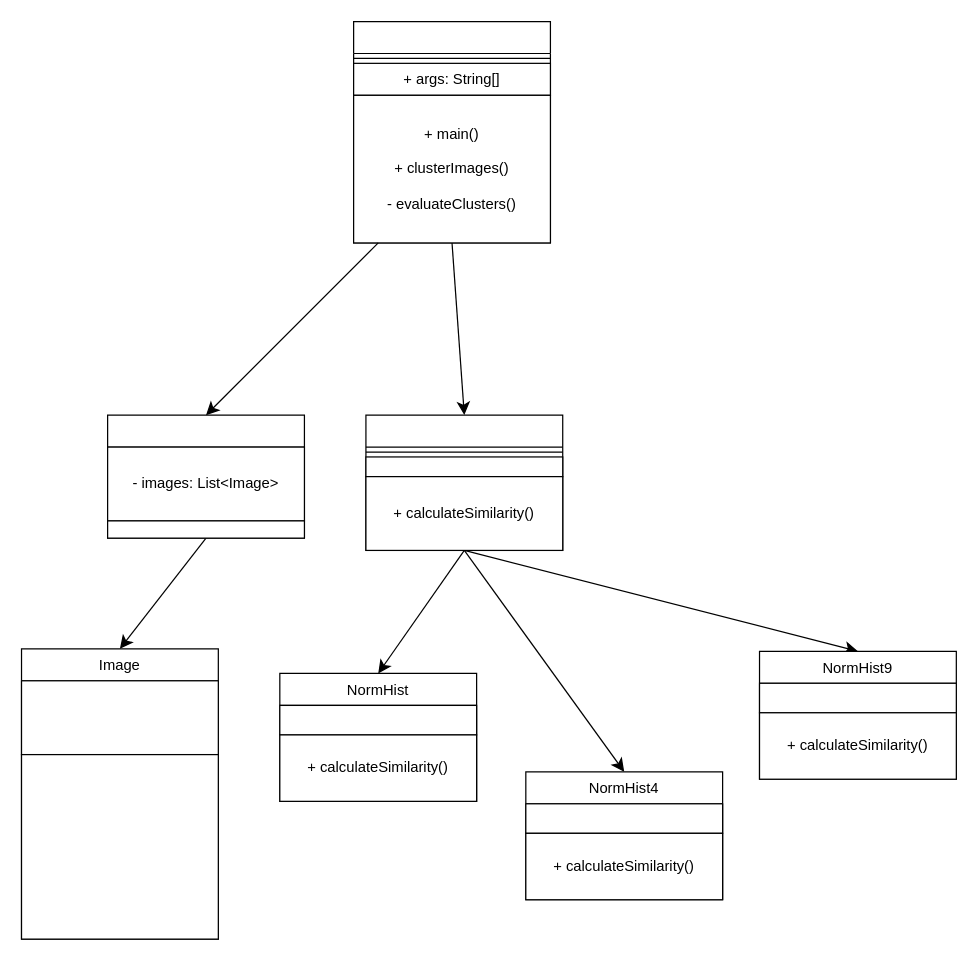
This 978x961 diagram has some shape labels left out. Here are the shapes that lost their labels. From the top down, the box of each, then its label:
(352, 20, 550, 243): CS_214_Project
(106, 414, 304, 538): Cluster
(365, 414, 563, 550): SimilarityMeasure
(20, 680, 218, 755): - filename: String - category: int - histogram: List<int>
(20, 753, 218, 939): + parseCategory() + calculateHistogram() + compareHistograms()
